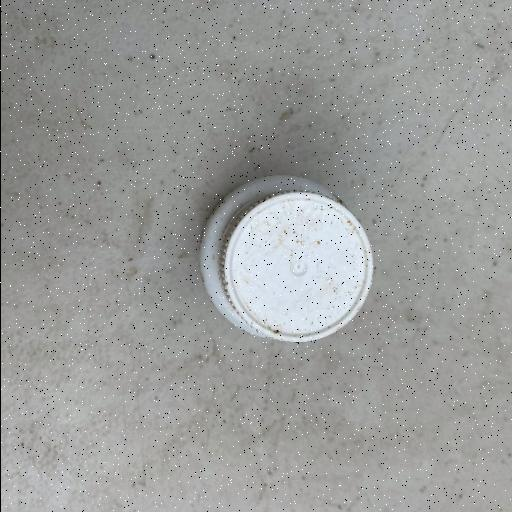Plastic: (196, 172, 376, 344)
